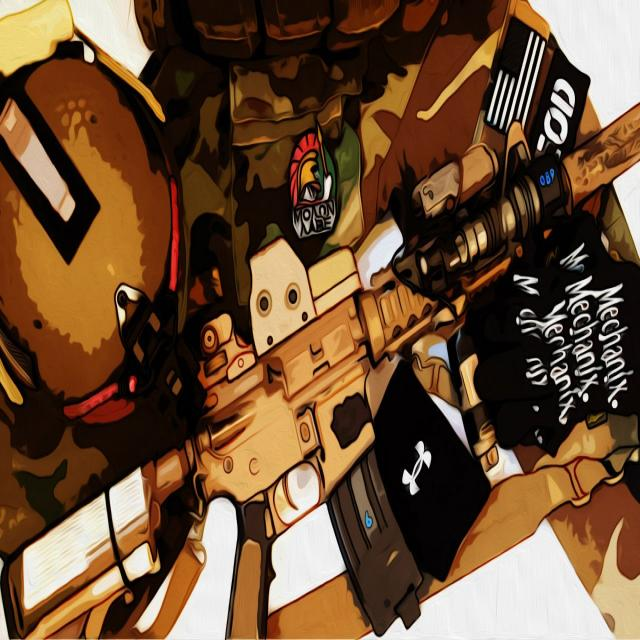firearm: (0, 99, 640, 640)
